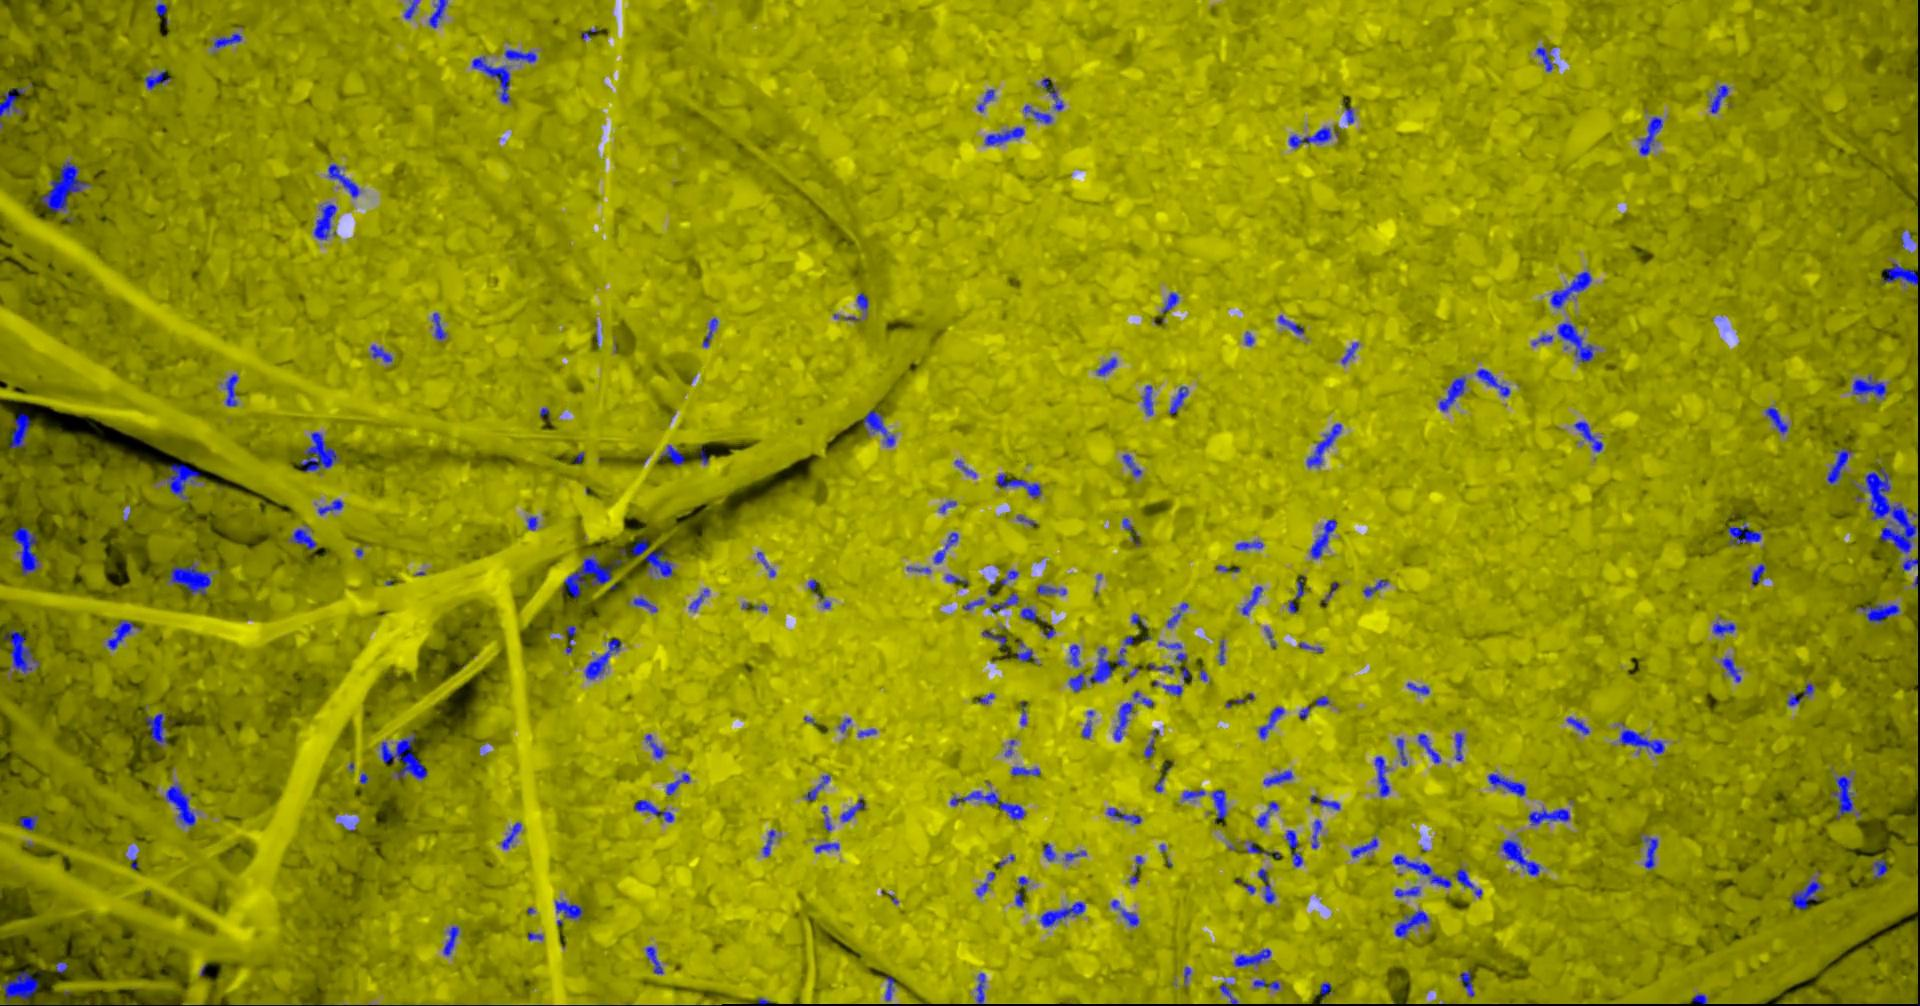ant: (563, 555, 623, 597), (42, 161, 90, 212), (382, 732, 429, 779), (951, 791, 1027, 819), (1070, 647, 1116, 691), (1394, 854, 1453, 887), (472, 55, 510, 102), (632, 537, 674, 575), (1308, 423, 1343, 467), (5, 627, 41, 672), (585, 638, 622, 680), (1552, 271, 1592, 307), (302, 431, 339, 471), (11, 525, 41, 575), (1559, 323, 1597, 361), (1502, 840, 1542, 875), (170, 561, 212, 594), (860, 409, 897, 446), (1831, 775, 1862, 819), (168, 784, 197, 826), (1, 970, 41, 1001), (168, 464, 201, 498), (1041, 901, 1086, 926), (997, 473, 1043, 497), (329, 163, 361, 197), (1622, 729, 1666, 753), (1312, 518, 1338, 558), (1790, 879, 1825, 909), (1290, 127, 1340, 147), (1396, 909, 1431, 937), (108, 619, 140, 649), (635, 799, 676, 822), (1478, 368, 1511, 396), (1, 86, 25, 124), (1440, 376, 1467, 410), (1641, 116, 1663, 155), (1575, 420, 1604, 451), (1882, 262, 1920, 285), (1490, 774, 1528, 796), (1829, 447, 1853, 483), (1260, 706, 1286, 738), (1854, 373, 1888, 398), (1457, 868, 1483, 897), (935, 532, 960, 563), (1115, 702, 1135, 741), (315, 203, 337, 239), (1043, 77, 1065, 111), (1730, 522, 1763, 545), (1112, 899, 1140, 926), (1418, 733, 1443, 763), (985, 127, 1026, 145), (1530, 807, 1571, 824), (147, 713, 169, 746), (1236, 948, 1272, 967), (1862, 605, 1901, 622), (11, 412, 30, 447), (1258, 868, 1276, 903), (990, 592, 1020, 614), (806, 775, 830, 800), (1288, 829, 1304, 866), (1242, 586, 1263, 614), (1768, 406, 1789, 433), (1352, 836, 1379, 857), (1377, 756, 1390, 796), (1109, 807, 1143, 823), (1710, 84, 1730, 113), (1023, 104, 1053, 123), (842, 798, 866, 821), (1168, 602, 1190, 627), (1258, 801, 1280, 827), (1117, 635, 1135, 666), (503, 822, 523, 848), (1161, 641, 1189, 661), (667, 774, 691, 795), (146, 69, 171, 89), (660, 445, 686, 465), (292, 528, 317, 549), (430, 0, 450, 27), (1279, 315, 1305, 334), (1723, 655, 1742, 682), (1171, 386, 1189, 414), (556, 901, 584, 918), (1537, 46, 1556, 71), (1643, 836, 1658, 868), (1163, 292, 1180, 321), (1213, 789, 1228, 819), (758, 551, 777, 575), (703, 318, 719, 347), (1265, 770, 1294, 785), (444, 926, 460, 955), (648, 946, 664, 973), (690, 589, 710, 611), (1124, 453, 1143, 476), (648, 734, 665, 758), (978, 871, 996, 895), (1222, 981, 1239, 1005), (215, 32, 243, 47), (1310, 795, 1341, 809), (1130, 855, 1145, 883), (505, 50, 538, 62), (1364, 579, 1389, 596), (983, 630, 1008, 647), (1018, 639, 1037, 661), (433, 312, 448, 339), (227, 373, 240, 405), (956, 459, 977, 478), (319, 499, 344, 514), (978, 89, 996, 111), (1568, 716, 1590, 734), (1343, 342, 1360, 365), (634, 597, 658, 612), (372, 344, 392, 362), (1462, 970, 1476, 996), (1752, 563, 1768, 586), (1098, 357, 1117, 375), (764, 829, 777, 856), (1134, 691, 1156, 706), (1144, 384, 1154, 415), (1398, 737, 1410, 765), (1248, 841, 1271, 855), (1873, 859, 1890, 878), (1012, 766, 1043, 776), (1255, 978, 1281, 989), (1037, 584, 1067, 594), (1313, 819, 1323, 848), (405, 0, 420, 19), (1714, 622, 1737, 635), (20, 814, 39, 829), (1150, 662, 1175, 673), (1002, 570, 1020, 586), (1408, 682, 1431, 694), (568, 624, 577, 653), (1396, 887, 1421, 897), (978, 972, 985, 1005), (1457, 732, 1465, 760), (1533, 334, 1554, 345), (817, 842, 841, 852), (886, 976, 897, 1000), (1237, 540, 1263, 549), (946, 574, 969, 584), (964, 598, 987, 608), (1022, 607, 1037, 622), (1183, 789, 1206, 799), (1065, 850, 1088, 860), (824, 805, 833, 831), (1070, 644, 1081, 666), (1164, 683, 1183, 695), (1903, 558, 1920, 570), (1044, 843, 1057, 860), (1321, 982, 1333, 998), (1297, 574, 1305, 597), (1691, 993, 1709, 1005), (1021, 701, 1029, 725), (858, 292, 869, 310), (1145, 739, 1156, 757), (1788, 694, 1803, 705), (1083, 720, 1093, 737), (156, 3, 168, 15), (1316, 695, 1330, 705), (528, 516, 538, 528), (1804, 682, 1815, 695), (1220, 640, 1225, 664), (57, 962, 69, 972)
